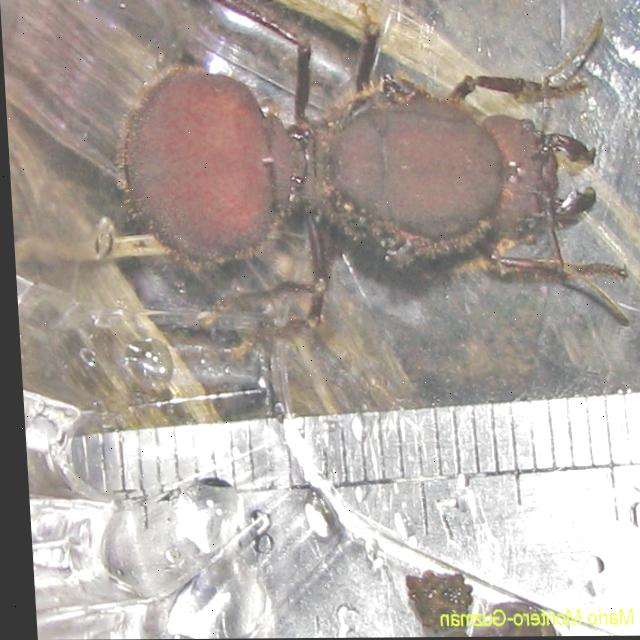Alive-Female-Dealate: (106, 0, 629, 361)
